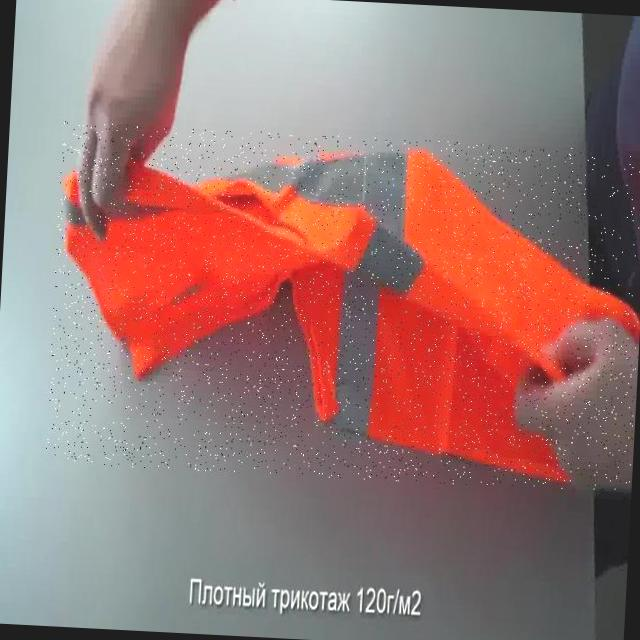vest: (45, 121, 640, 493)
